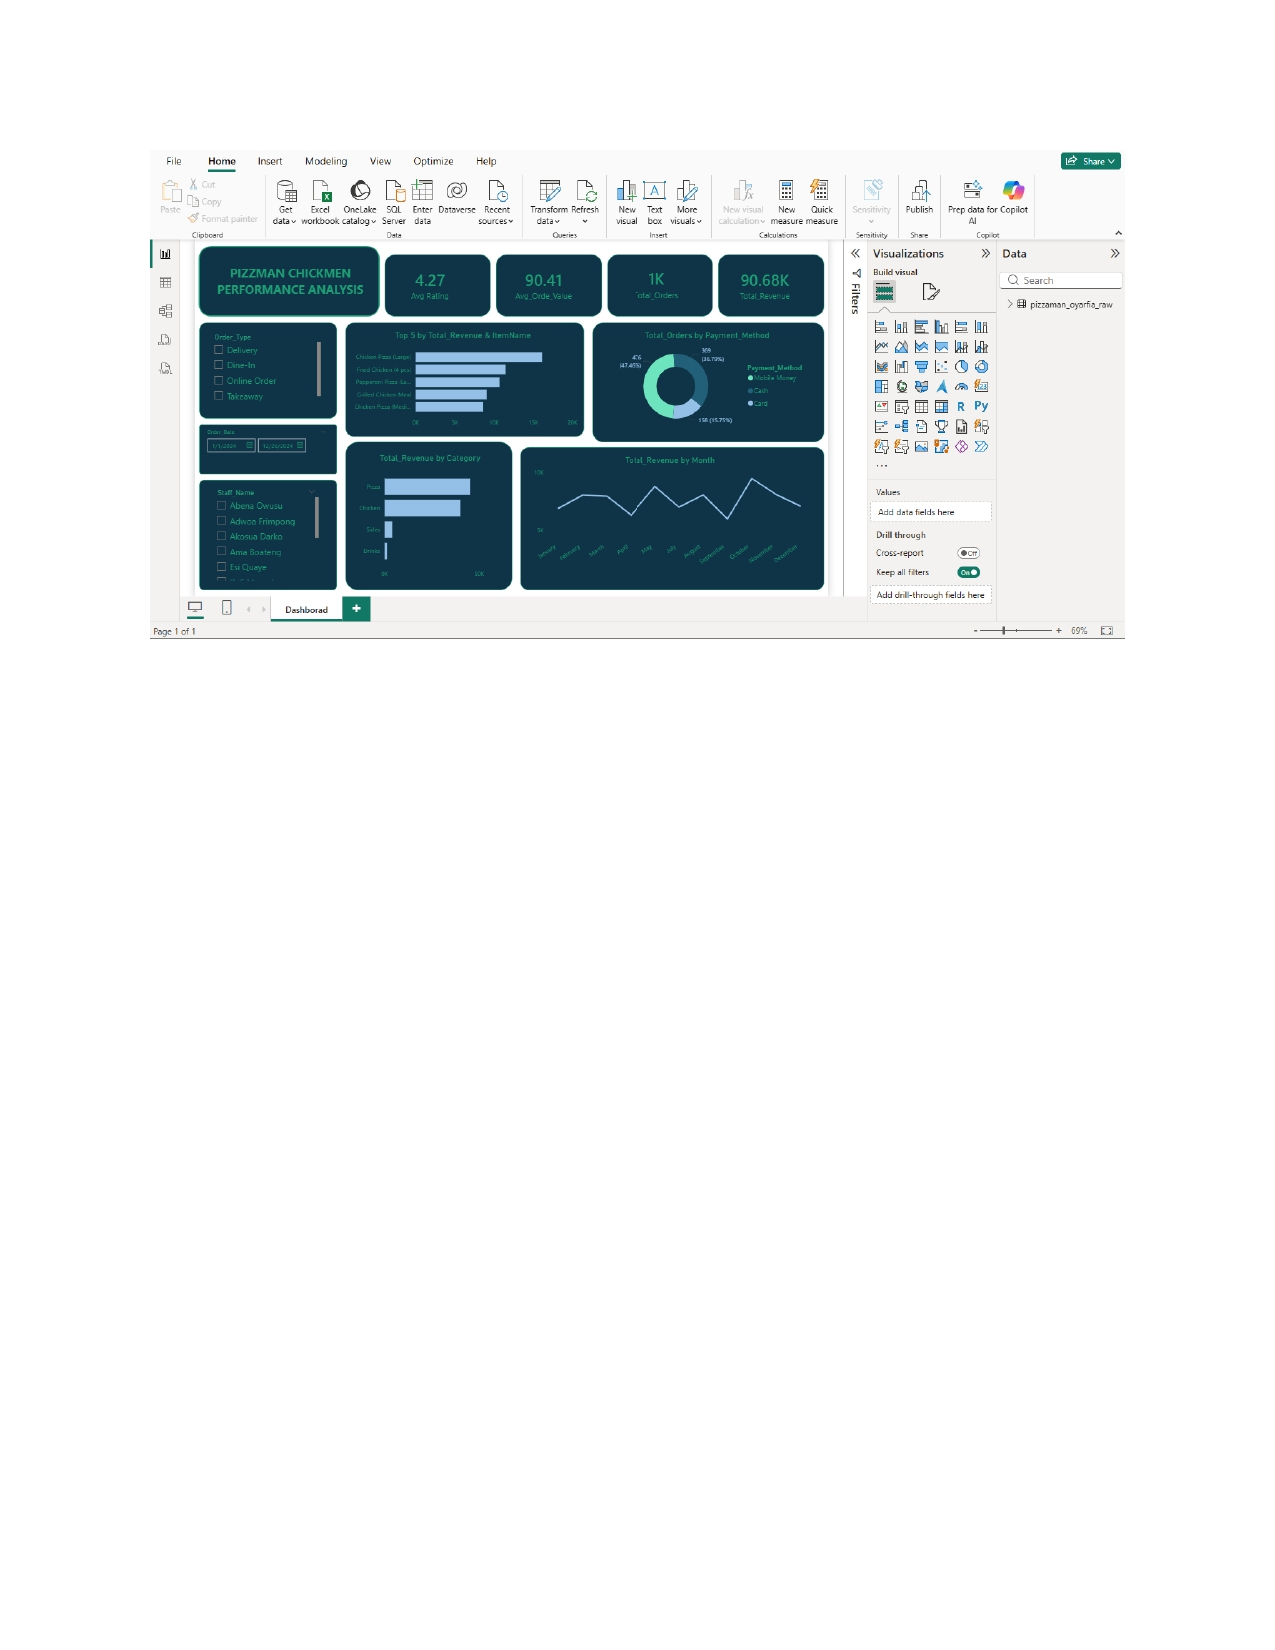

The dashboard page shown, as its layout file describes it:
{"tool":"powerbi","page":{"name":"Dashborad","canvas":[1280,720],"ordinal":0},"visuals":[{"type":"cardVisual","fields":{"Data":["pizzaman_oyarfia_raw.Total_Revenue"]},"box":[1064.2,43.2,195.8,96.5],"z":0},{"type":"cardVisual","fields":{"Data":["pizzaman_oyarfia_raw.Total_Orders"]},"box":[845.3,38.9,190.1,100.8],"z":1000},{"type":"cardVisual","fields":{"Data":["pizzaman_oyarfia_raw.Avg_Orde_Value"]},"box":[616.3,43.2,193,96.5],"z":2000},{"type":"cardVisual","fields":{"Data":["pizzaman_oyarfia_raw.Avg Rating"]},"box":[387.4,43.2,200.2,96.5],"z":3000},{"type":"textbox","box":[27.4,28.8,331.2,110.9],"z":5000},{"type":"lineChart","fields":{"Y":["pizzaman_oyarfia_raw.Total_Revenue"],"Category":["pizzaman_oyarfia_raw.Order_Date.Variation.Date Hierarchy.Month"]},"box":[671,434.9,576,241.9],"z":6000},{"type":"clusteredBarChart","fields":{"Category":["pizzaman_oyarfia_raw.Category"],"Y":["pizzaman_oyarfia_raw.Total_Revenue"]},"box":[322.6,430.6,303.8,262.1],"z":7000},{"type":"donutChart","fields":{"Category":["pizzaman_oyarfia_raw.Payment_Method"],"Y":["pizzaman_oyarfia_raw.Total_Orders"]},"box":[822.2,182.9,424.8,204.5],"z":8000},{"type":"barChart","title":"Top 5 by Total_Revenue & ItemName","fields":{"Category":["pizzaman_oyarfia_raw.Item_Name"],"Y":["pizzaman_oyarfia_raw.Total_Revenue"]},"box":[305.3,182.9,470.9,204.5],"z":9000},{"type":"slicer","fields":{"Values":["pizzaman_oyarfia_raw.Order_Type"]},"box":[27.4,182.9,231.8,149.8],"z":10000},{"type":"slicer","fields":{"Values":["pizzaman_oyarfia_raw.Order_Date"]},"box":[13,377.3,263.5,85],"z":11000},{"type":"slicer","fields":{"Values":["pizzaman_oyarfia_raw.Staff_Name"]},"box":[33.1,496.8,221.8,195.8],"z":12000}]}

Visuals, with their boxes on the page's 1280x720 design canvas (x1, y1, x2, y2). These are canvas units, not pixel positions in the 1275x1650 screenshot, which may show the page scaled, cropped or inside an application window:
cardVisual - pizzaman_oyarfia_raw.Total_Revenue: [1064,43,1260,140]
cardVisual - pizzaman_oyarfia_raw.Total_Orders: [845,39,1035,140]
cardVisual - pizzaman_oyarfia_raw.Avg_Orde_Value: [616,43,809,140]
cardVisual - pizzaman_oyarfia_raw.Avg Rating: [387,43,588,140]
textbox: [27,29,359,140]
lineChart - pizzaman_oyarfia_raw.Total_Revenue x pizzaman_oyarfia_raw.Order_Date.Variation.Date Hierarchy.Month: [671,435,1247,677]
clusteredBarChart - pizzaman_oyarfia_raw.Category x pizzaman_oyarfia_raw.Total_Revenue: [323,431,626,693]
donutChart - pizzaman_oyarfia_raw.Payment_Method x pizzaman_oyarfia_raw.Total_Orders: [822,183,1247,387]
"Top 5 by Total_Revenue & ItemName" barChart: [305,183,776,387]
slicer - pizzaman_oyarfia_raw.Order_Type: [27,183,259,333]
slicer - pizzaman_oyarfia_raw.Order_Date: [13,377,276,462]
slicer - pizzaman_oyarfia_raw.Staff_Name: [33,497,255,693]
